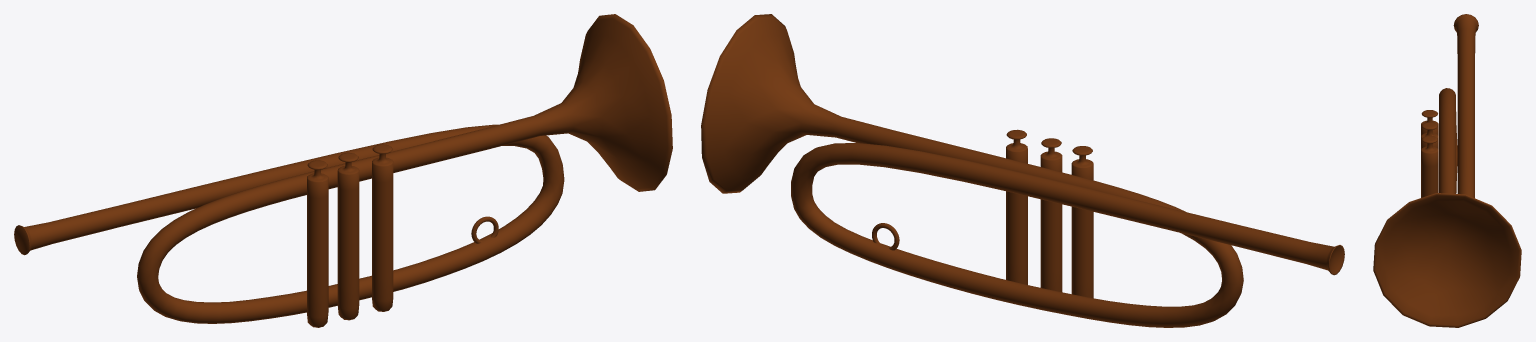
Rendered from trumpette.FBX.
3 views of the same model, side by side, from view 1: azimuth 30°, elevation 25°; view 2: azimuth 150°, elevation 25°; view 3: azimuth 270°, elevation 25° (orthographic). The views are drawn at different scales.
Visible parts, largest first — view 1: Line001; view 2: Line001; view 3: Line001.
Boxes of the visible parts, box(x1,y1,x2,y2) form: Line001: box(14, 14, 672, 327); Line001: box(701, 14, 1344, 327); Line001: box(1373, 14, 1521, 327).
Size of the model in its own units: 43.36 by 15.24 by 11.54.
